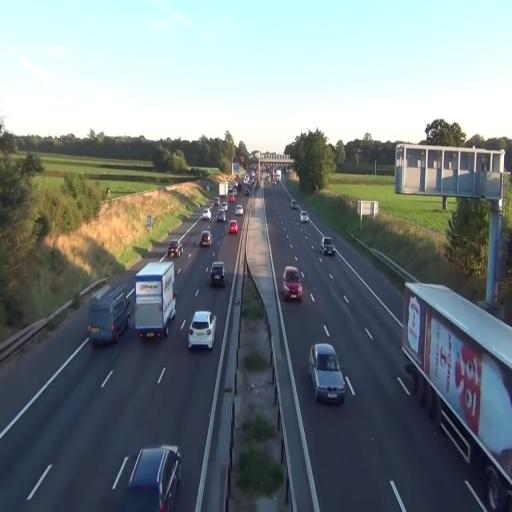vehicle: (400, 279, 512, 507), (112, 444, 182, 511), (134, 257, 176, 342), (134, 257, 176, 341), (87, 277, 135, 346), (308, 342, 346, 404), (188, 310, 216, 351), (281, 264, 304, 302), (209, 262, 227, 288), (322, 238, 335, 256), (199, 230, 212, 248), (214, 208, 227, 222)
